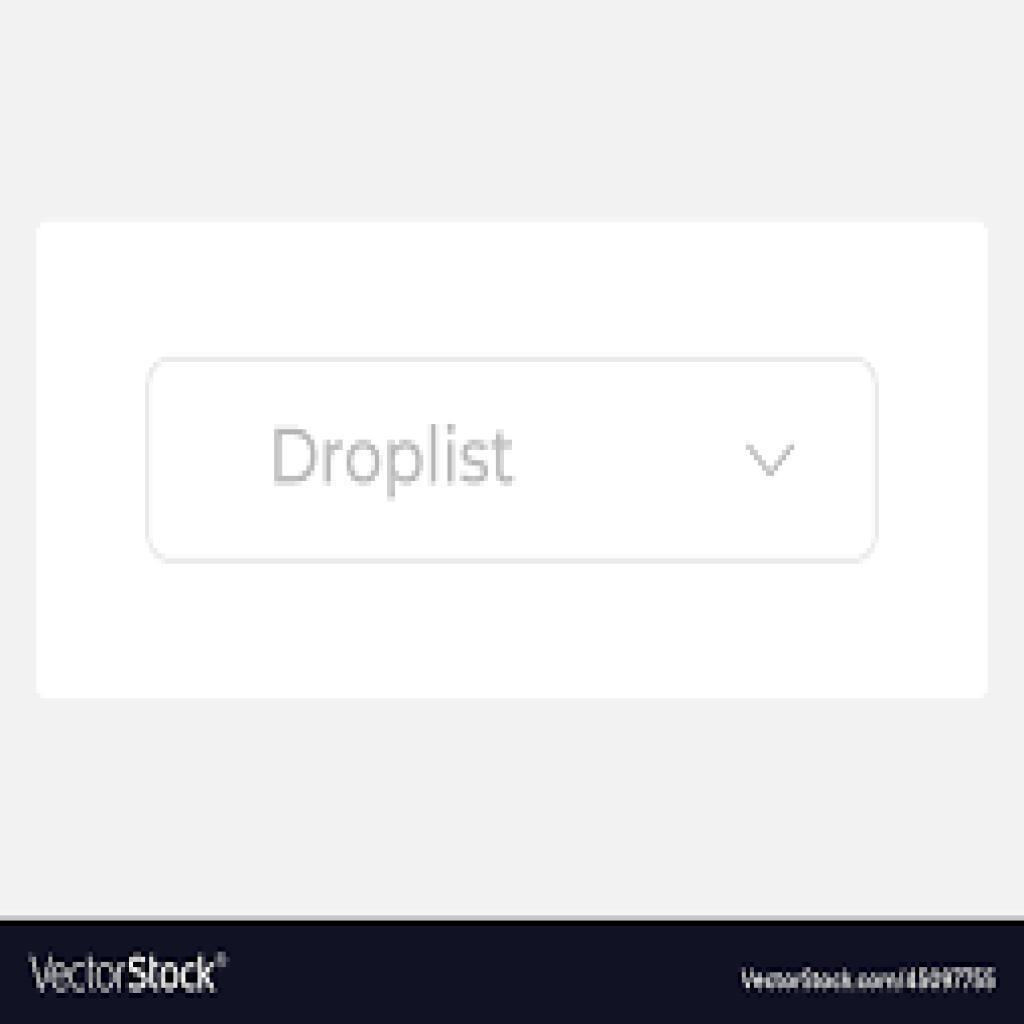dropdown: (145, 359, 881, 562)
